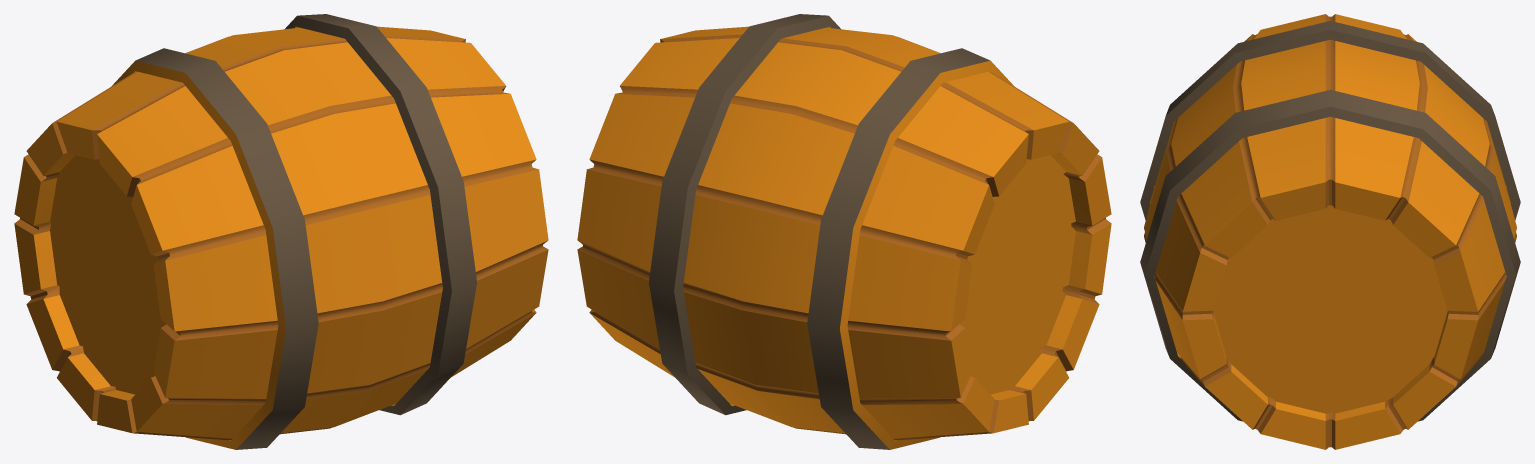
The model's file is varil.fbx.
3 views of the same model, side by side, from view 1: azimuth 30°, elevation 25°; view 2: azimuth 150°, elevation 25°; view 3: azimuth 270°, elevation 25° (orthographic). The views are drawn at different scales.
Visible parts, largest first — view 1: varil; view 2: varil; view 3: varil.
Boxes of the visible parts, x1=… form: varil: x1=14, y1=14, x2=548, y2=449; varil: x1=577, y1=14, x2=1111, y2=449; varil: x1=1140, y1=14, x2=1520, y2=449.
Bounding box in the file's own units: 86.07 × 82.31 × 82.31.
